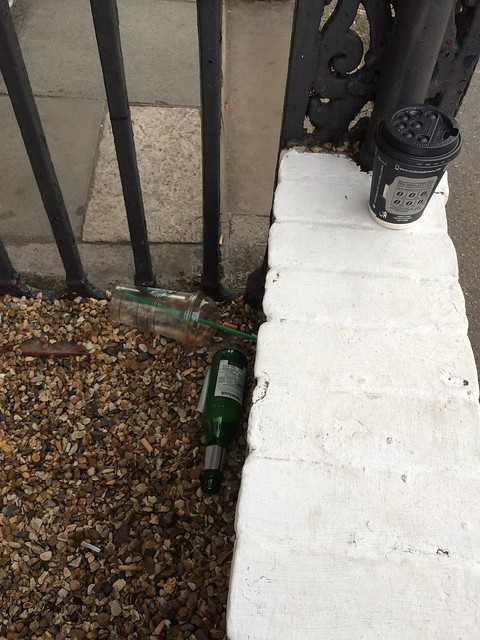bottle: (194, 348, 251, 504)
